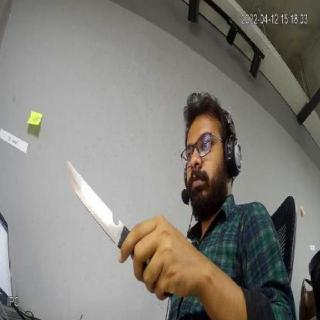knife: (65, 156, 132, 244)
